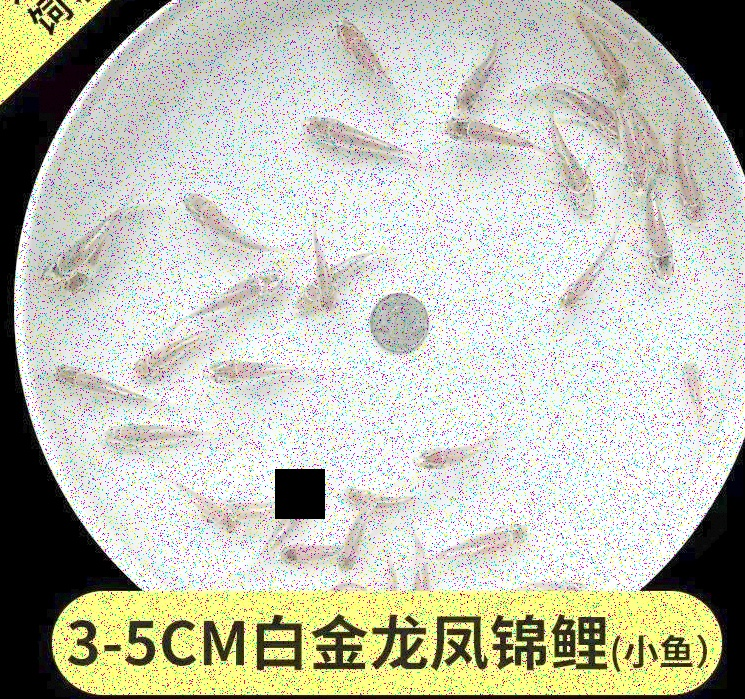fry: (172, 176, 273, 269), (295, 113, 426, 181), (184, 265, 291, 330), (538, 137, 608, 230), (542, 70, 630, 142), (45, 349, 136, 418), (31, 213, 118, 285), (338, 10, 413, 93), (571, 13, 643, 95), (442, 32, 509, 118), (666, 345, 724, 443), (437, 108, 534, 163), (666, 126, 715, 234), (438, 512, 532, 565), (544, 246, 615, 314), (96, 416, 221, 454), (202, 349, 313, 388), (641, 183, 680, 291), (409, 434, 504, 478), (342, 478, 434, 523), (273, 532, 357, 581), (124, 329, 203, 379), (260, 483, 328, 541), (612, 111, 654, 204), (187, 489, 249, 547), (633, 110, 678, 188), (57, 255, 114, 306), (308, 232, 342, 314), (336, 510, 379, 573), (291, 264, 330, 326), (222, 493, 291, 526), (403, 534, 439, 593), (372, 555, 406, 589)
